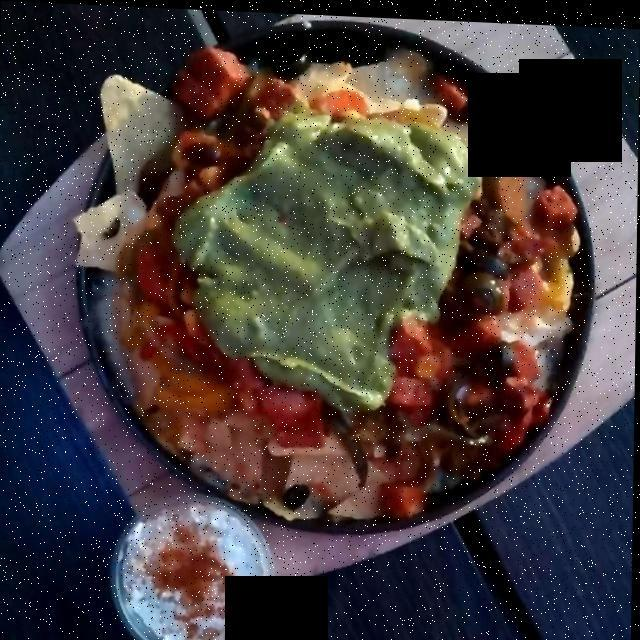chorizo: (134, 42, 579, 455)
corn-crisps: (75, 77, 189, 277)
guacamole: (185, 109, 488, 393)
sour-cream: (119, 495, 269, 640)
